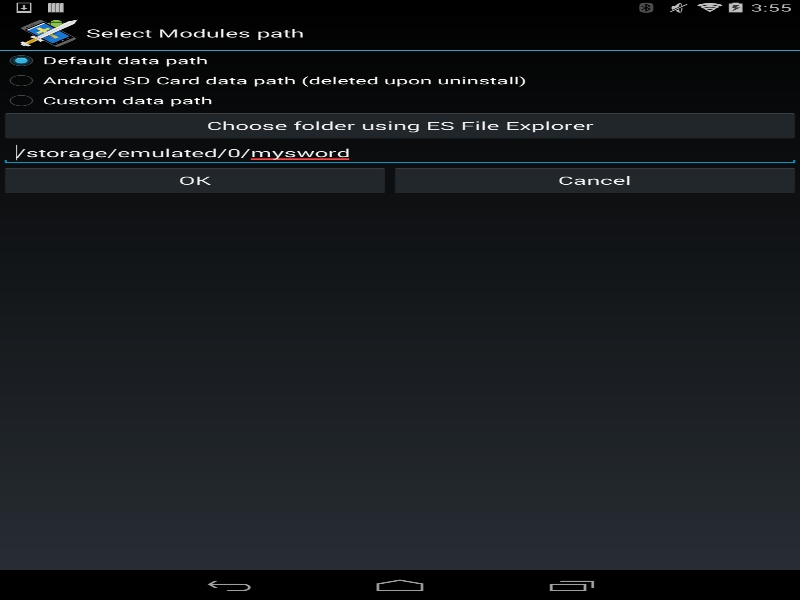Button: (0, 110, 800, 140), (390, 165, 800, 195), (0, 165, 390, 195)
Input: (0, 140, 800, 165)
